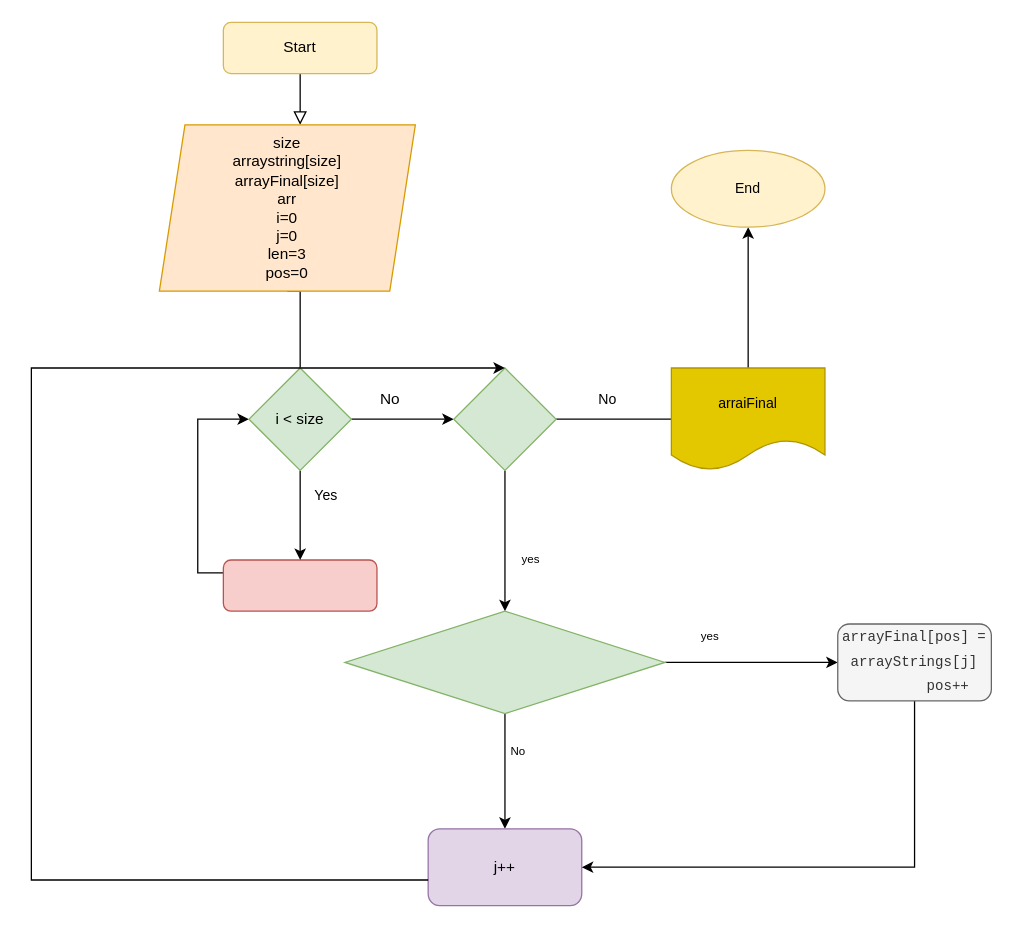
Some shapes in this 1014 by 928 pixel diagram are drawn without their labels. The centre of each missing label's shape, as x and y in pixels:
"arr" belongs at point 299,585.
"arrayStrings[j].Length <= len" belongs at point 504,662.
"j < size" belongs at point 504,418.
